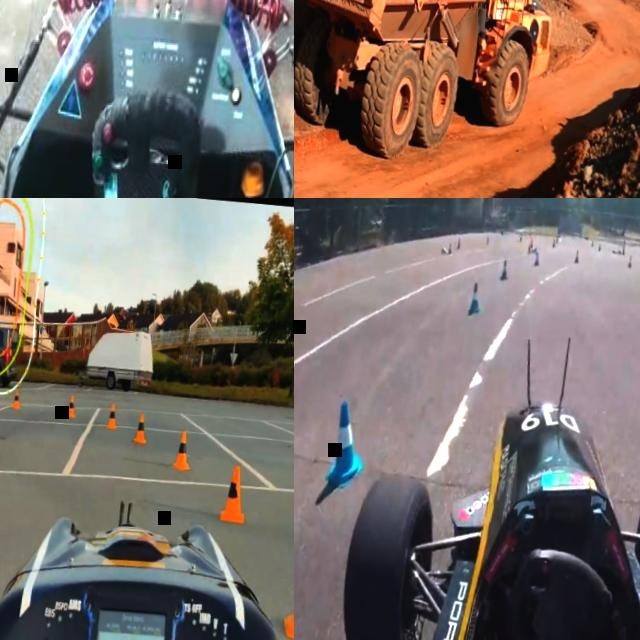Safety Cone: (324, 392, 363, 484), (219, 464, 247, 526), (281, 531, 294, 640), (172, 428, 194, 473), (464, 282, 484, 314), (132, 412, 148, 447), (65, 392, 79, 422), (497, 255, 509, 290), (105, 402, 118, 433), (11, 388, 22, 412), (573, 248, 580, 265), (533, 253, 540, 267), (627, 255, 633, 269), (447, 243, 452, 259), (529, 245, 537, 255), (440, 246, 447, 255), (527, 243, 531, 256), (485, 237, 490, 246), (518, 234, 522, 244), (551, 240, 555, 249), (621, 246, 624, 257), (598, 244, 601, 252), (590, 241, 593, 248), (555, 238, 557, 245)
machinery: (294, 0, 561, 175)
vehicle: (329, 378, 640, 640), (0, 0, 294, 198), (0, 466, 294, 640), (0, 316, 21, 391)
